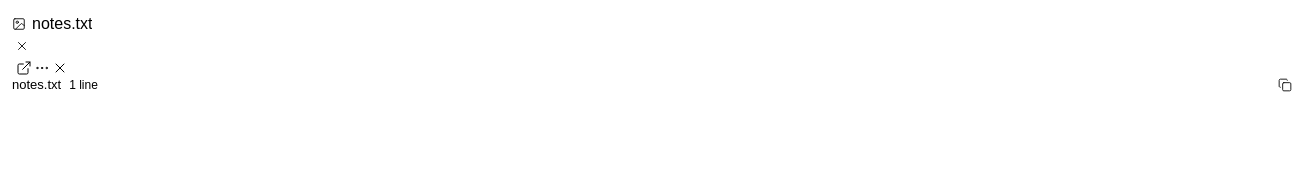
Test: ArtifactViewer tooltips follow the panel’s open state › names Close preview panel after the delay while the panel is open
Hover over the button named "Close preview panel": (60, 68) [52, 60, 68, 76]
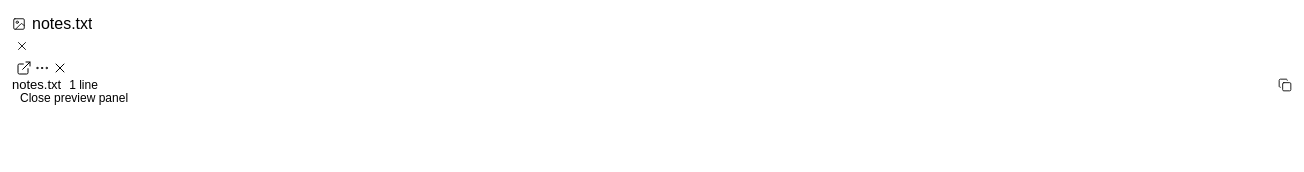
Expected: the tooltip reads "Close preview panel", [20, 91, 128, 105]
